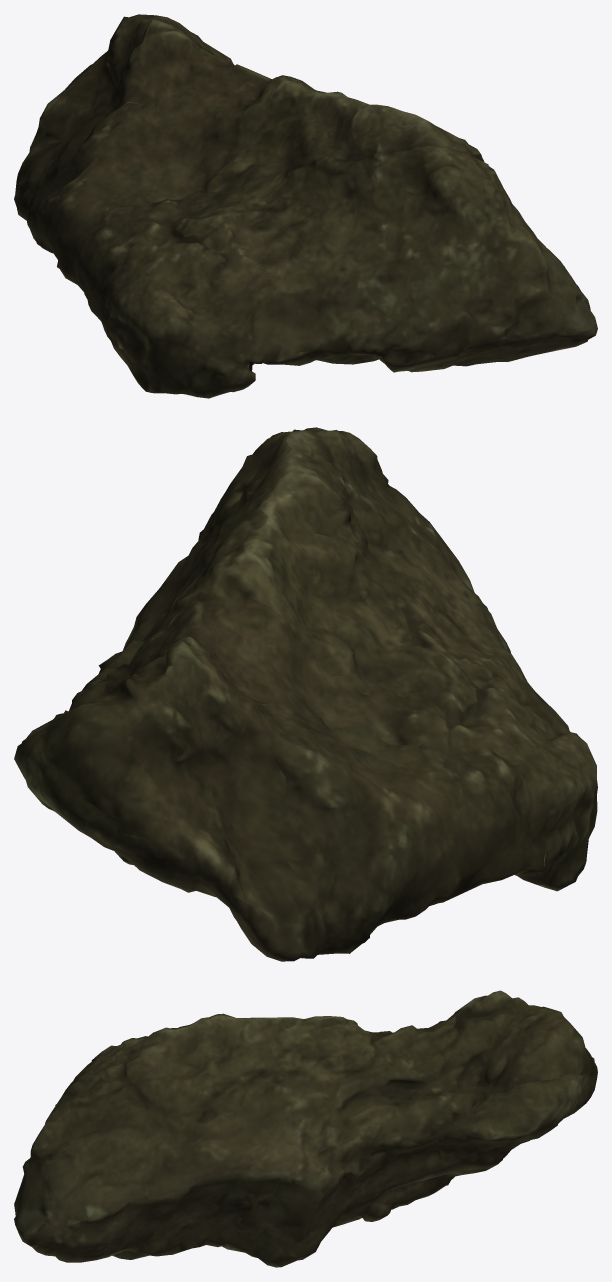
The model's file is RF3_Moss_Rock_1.fbx.
3 views of the same model, one above another, from view 1: azimuth 30°, elevation 25°; view 2: azimuth 150°, elevation 25°; view 3: azimuth 270°, elevation 25° (orthographic). The views are drawn at different scales.
Parts seen in each view (by area): view 1: RF3_Moss_Rock_1; view 2: RF3_Moss_Rock_1; view 3: RF3_Moss_Rock_1.
Boxes of the visible parts, x1,y1,x2,y2 form: RF3_Moss_Rock_1: [14, 14, 597, 398]; RF3_Moss_Rock_1: [14, 427, 597, 961]; RF3_Moss_Rock_1: [14, 990, 597, 1267].
Bounding box in the file's own units: 224 × 147 × 337.
